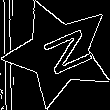N_SW: (27, 24, 91, 82)
